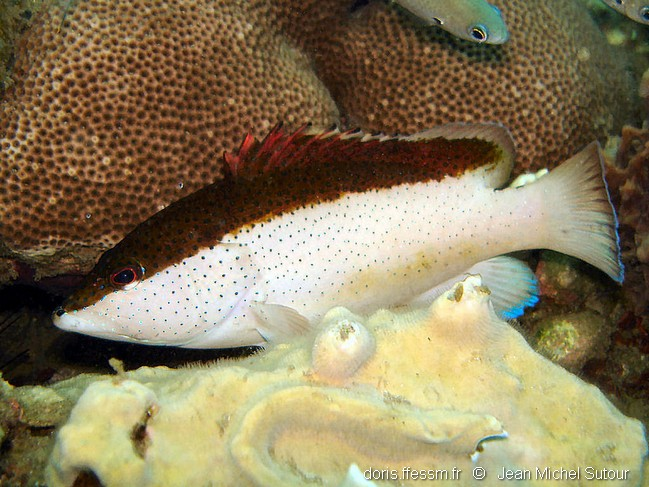Cephalopholis_fulvaw: (48, 130, 627, 380)
